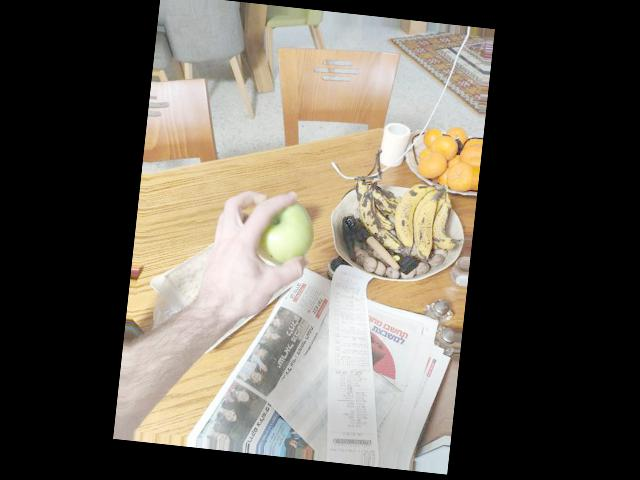apple: (241, 186, 315, 279)
